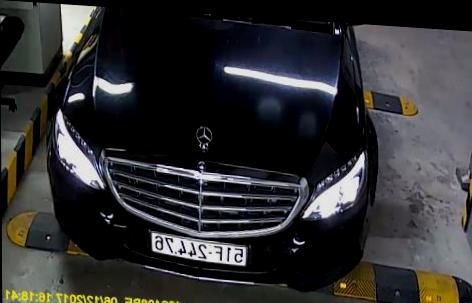License_Plate: (151, 234, 248, 267)
